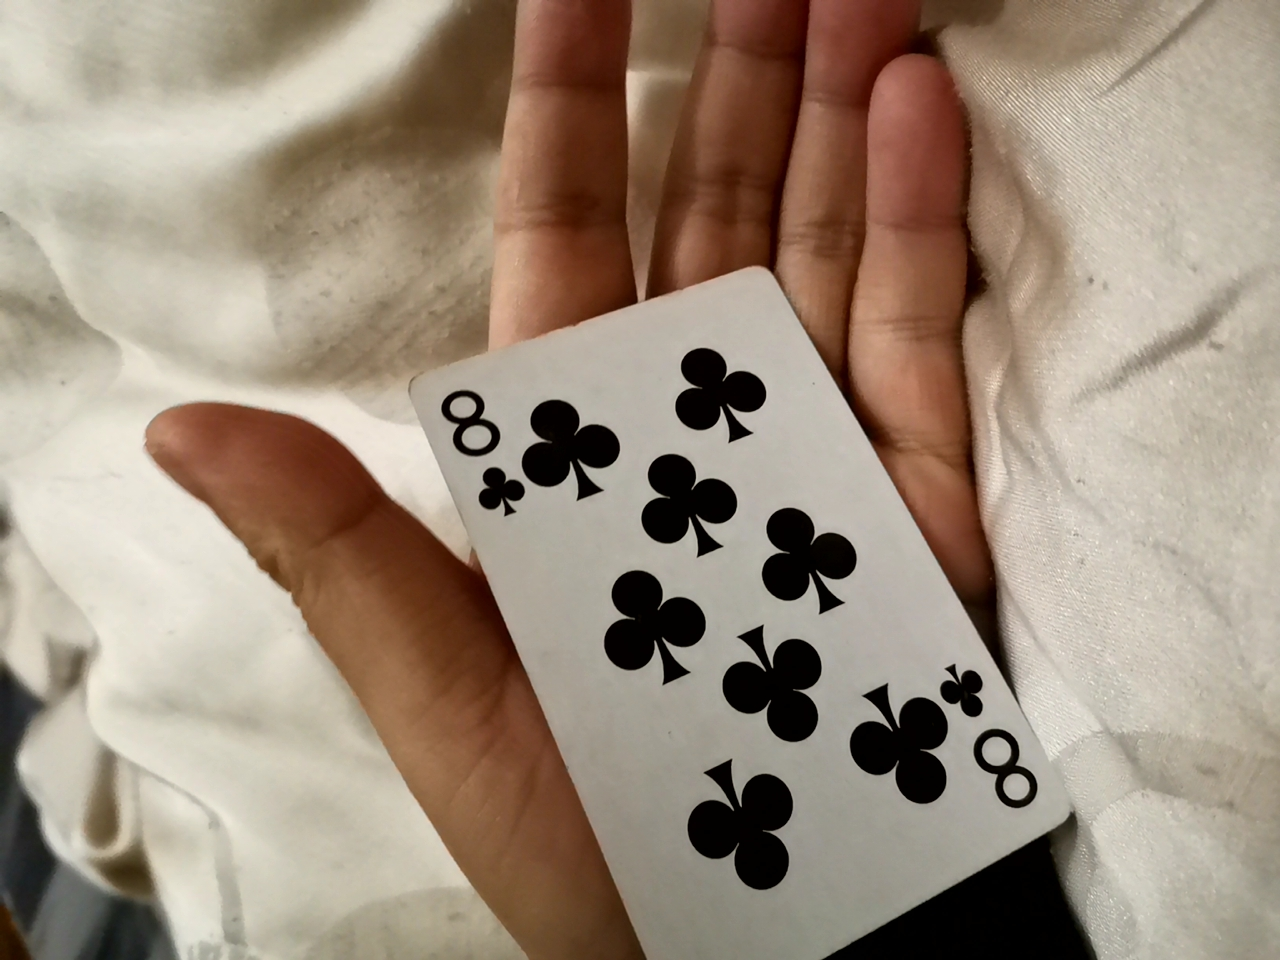mh 8: (339, 241, 1083, 958)
